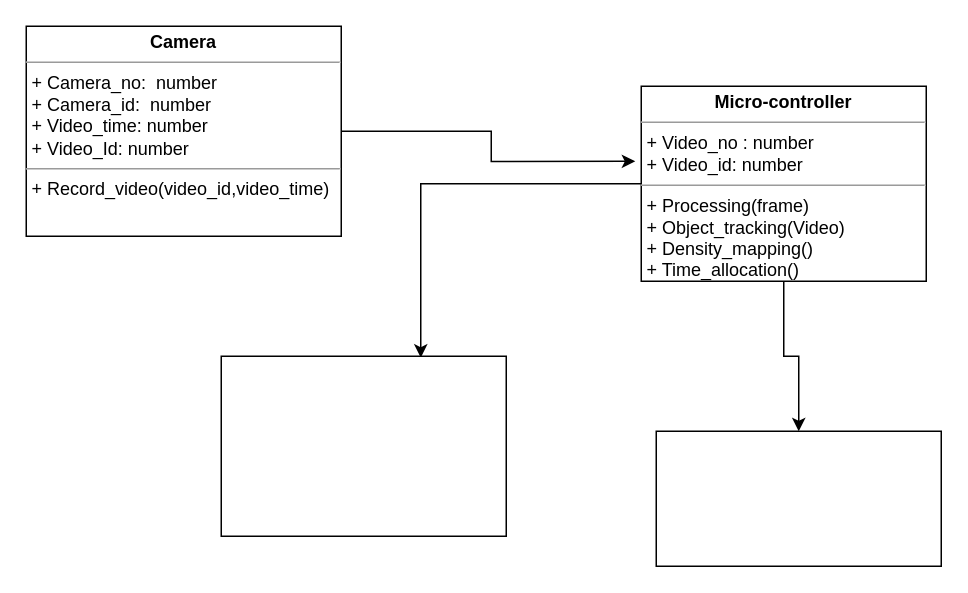
Image size: 968x593. Some labels were removed from this diagram. Here are the shapes that lost their labels. From the top down, the centre of each, then its label:
At (x=363, y=445): "Cloud + time_instance: number + data + save() + push()".
At (x=798, y=498): "Timer + time_instance: number + update()".
